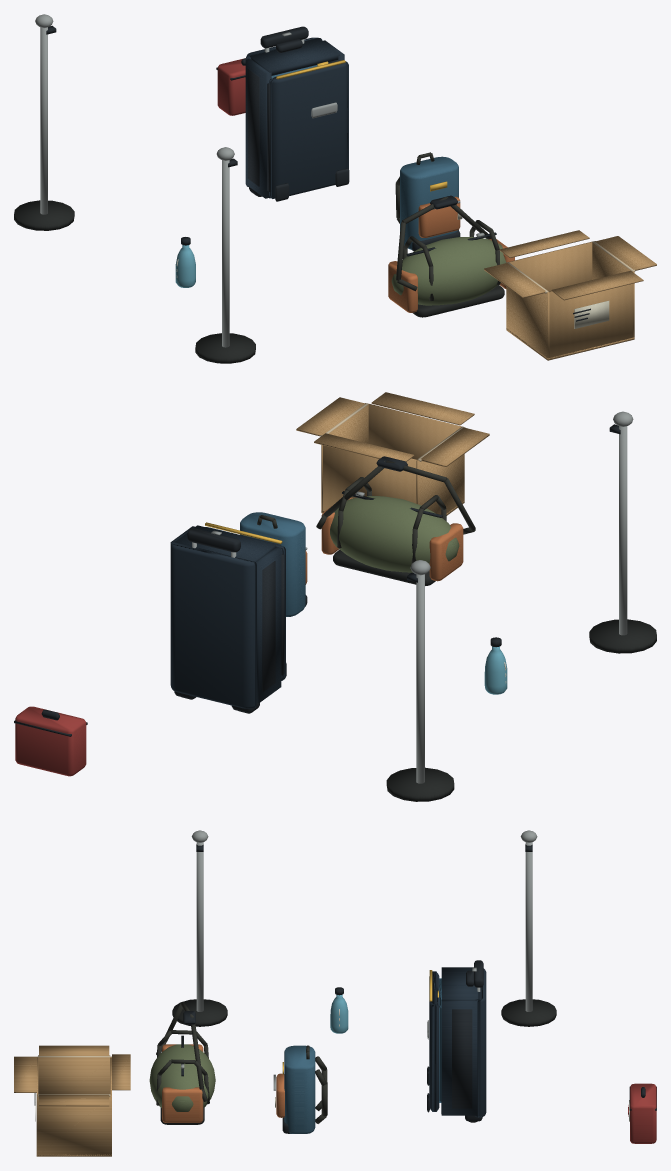
The picture shows the model from 3 angles, top to bottom: view 1: azimuth 30°, elevation 25°; view 2: azimuth 150°, elevation 25°; view 3: azimuth 270°, elevation 25°; orthographic projection. The views are drawn at different scales.
Visible parts, largest first — view 1: VIS_02_Rolling_Suitcase_lid_front_032, VIS_04_Duffel_Bag_duffel_main_volume_059, VIS_05_Empty_Carton_wall_z_1_087, VIS_03_Child_Backpack_soft_bag_main_044, VIS_05_Empty_Carton_wall_z_-1_083, VIS_05_Empty_Carton_wall_x_-1_082, VIS_02_Rolling_Suitcase_body_sidewall_-1_009, VIS_02_Rolling_Suitcase_body_shell_top_020, VIS_00_Queue_Pole_pole_stanchion_001, VIS_01_Queue_Pole_pole_stanchion_005, VIS_00_Queue_Pole_wide_base_000, VIS_01_Queue_Pole_wide_base_004 (+13 smaller); view 2: VIS_02_Rolling_Suitcase_body_shell_rear_008, VIS_04_Duffel_Bag_duffel_main_volume_059, VIS_06_First_Aid_Kit_red_kit_body_096, VIS_05_Empty_Carton_wall_z_-1_083, VIS_05_Empty_Carton_wall_z_1_087, VIS_03_Child_Backpack_soft_bag_main_044, VIS_02_Rolling_Suitcase_body_sidewall_-1_009, VIS_05_Empty_Carton_wall_x_-1_082, VIS_01_Queue_Pole_pole_stanchion_005, VIS_00_Queue_Pole_pole_stanchion_001, VIS_01_Queue_Pole_wide_base_004, VIS_00_Queue_Pole_wide_base_000 (+11 smaller); view 3: VIS_05_Empty_Carton_wall_x_1_086, VIS_05_Empty_Carton_wall_x_-1_082, VIS_03_Child_Backpack_soft_bag_main_044, VIS_04_Duffel_Bag_duffel_main_volume_059, VIS_02_Rolling_Suitcase_body_sidewall_1_014, VIS_02_Rolling_Suitcase_body_rib_side_1_015, VIS_06_First_Aid_Kit_red_kit_body_096, VIS_02_Rolling_Suitcase_lid_front_032, VIS_02_Rolling_Suitcase_body_shell_rear_008, VIS_00_Queue_Pole_pole_stanchion_001, VIS_01_Queue_Pole_pole_stanchion_005, VIS_00_Queue_Pole_wide_base_000 (+8 smaller).
Part boxes in pixels (x1,y1,x2,y2): VIS_02_Rolling_Suitcase_lid_front_032: (269, 61, 348, 198); VIS_04_Duffel_Bag_duffel_main_volume_059: (391, 236, 506, 305); VIS_05_Empty_Carton_wall_z_1_087: (549, 283, 632, 359); VIS_03_Child_Backpack_soft_bag_main_044: (400, 156, 458, 249); VIS_05_Empty_Carton_wall_z_-1_083: (508, 242, 592, 291); VIS_05_Empty_Carton_wall_x_-1_082: (506, 286, 549, 360); VIS_02_Rolling_Suitcase_body_sidewall_-1_009: (245, 59, 271, 198); VIS_02_Rolling_Suitcase_body_shell_top_020: (249, 39, 339, 75); VIS_00_Queue_Pole_pole_stanchion_001: (40, 27, 47, 214); VIS_01_Queue_Pole_pole_stanchion_005: (222, 160, 229, 347); VIS_00_Queue_Pole_wide_base_000: (14, 200, 74, 230); VIS_01_Queue_Pole_wide_base_004: (195, 333, 255, 363); VIS_02_Rolling_Suitcase_body_shell_rear_008: (170, 541, 256, 708); VIS_04_Duffel_Bag_duffel_main_volume_059: (330, 496, 459, 572); VIS_06_First_Aid_Kit_red_kit_body_096: (15, 706, 86, 776); VIS_05_Empty_Carton_wall_z_-1_083: (323, 445, 416, 511); VIS_05_Empty_Carton_wall_z_1_087: (368, 404, 461, 459); VIS_03_Child_Backpack_soft_bag_main_044: (240, 512, 305, 616); VIS_02_Rolling_Suitcase_body_sidewall_-1_009: (256, 546, 281, 702); VIS_05_Empty_Carton_wall_x_-1_082: (416, 454, 464, 514); VIS_01_Queue_Pole_pole_stanchion_005: (619, 426, 627, 635); VIS_00_Queue_Pole_pole_stanchion_001: (416, 574, 424, 783); VIS_01_Queue_Pole_wide_base_004: (589, 619, 656, 653); VIS_00_Queue_Pole_wide_base_000: (386, 767, 454, 801); VIS_05_Empty_Carton_wall_x_1_086: (36, 1094, 111, 1156); VIS_05_Empty_Carton_wall_x_-1_082: (37, 1056, 111, 1093); VIS_03_Child_Backpack_soft_bag_main_044: (284, 1045, 315, 1133); VIS_04_Duffel_Bag_duffel_main_volume_059: (149, 1044, 215, 1111); VIS_02_Rolling_Suitcase_body_sidewall_1_014: (441, 1000, 477, 1115); VIS_02_Rolling_Suitcase_body_rib_side_1_015: (452, 1009, 472, 1108); VIS_06_First_Aid_Kit_red_kit_body_096: (630, 1083, 656, 1143); VIS_02_Rolling_Suitcase_lid_front_032: (429, 971, 439, 1111); VIS_02_Rolling_Suitcase_body_shell_rear_008: (475, 968, 486, 1117); VIS_00_Queue_Pole_pole_stanchion_001: (525, 842, 532, 1011); VIS_01_Queue_Pole_pole_stanchion_005: (196, 842, 203, 1011); VIS_00_Queue_Pole_wide_base_000: (501, 999, 556, 1026).
Bounding box in the file's own units: 2 × 1.05 × 3.32.
Materials: 16 (16 with a texture image).
